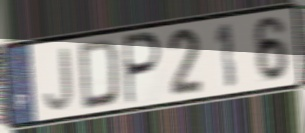1: (215, 21, 239, 89)
2: (169, 25, 206, 100)
6: (251, 14, 291, 85)
D: (77, 37, 121, 112)
J: (43, 45, 75, 113)
P: (124, 30, 164, 108)
